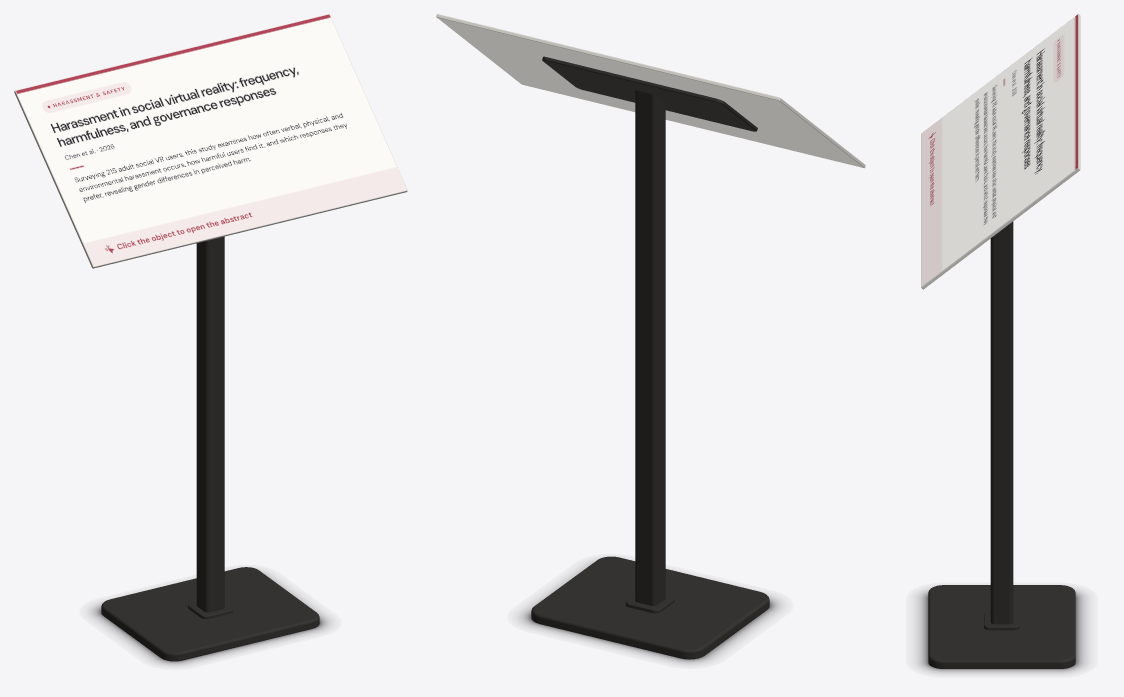
Rendered from plaque-chen-2026-stand.glb.
3 views of the same model, side by side, from view 1: azimuth 30°, elevation 25°; view 2: azimuth 150°, elevation 25°; view 3: azimuth 270°, elevation 25° (orthographic). The views are drawn at different scales.
Parts seen in each view (by area): view 1: board, stand; view 2: stand, board; view 3: board, stand.
Boxes of the visible parts, left/top/right/bottom form: board: left=14, top=14, right=407, bottom=268; stand: left=91, top=236, right=329, bottom=664; stand: left=520, top=56, right=779, bottom=663; board: left=436, top=14, right=865, bottom=168; board: left=921, top=14, right=1080, bottom=289; stand: left=918, top=221, right=1085, bottom=672.
Size of the model in its own units: 0.643 by 1.05 by 0.38.
Materials: 4 (2 with a texture image).
